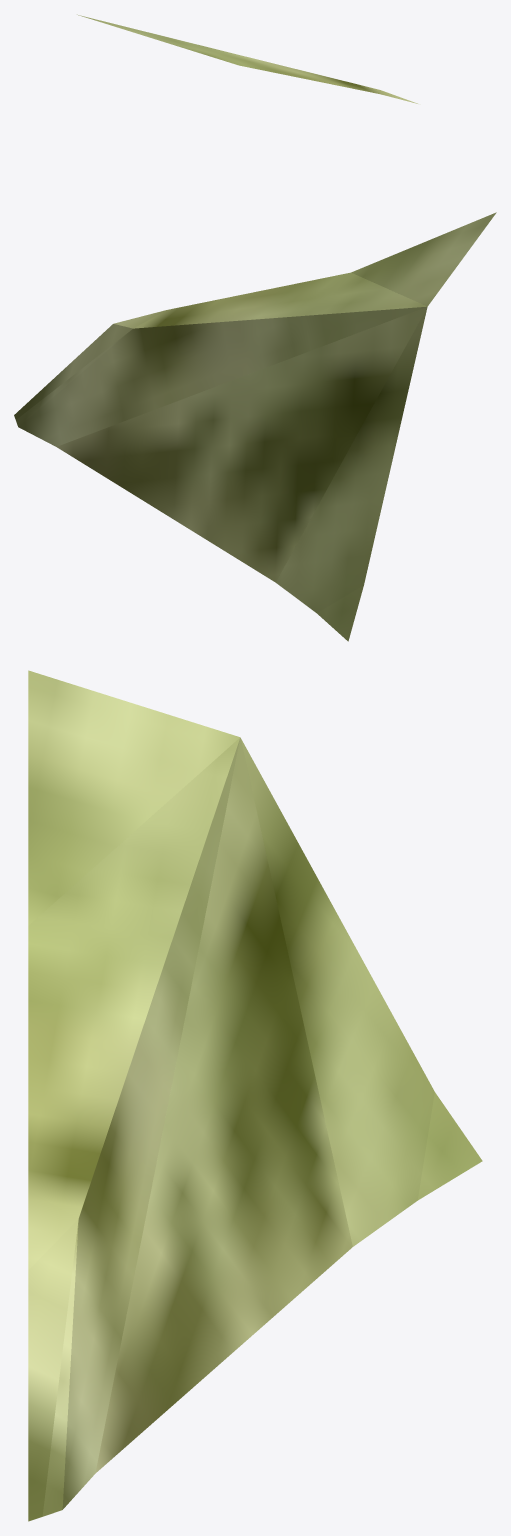
3 views of the same model, one above another, from view 1: azimuth 30°, elevation 25°; view 2: azimuth 150°, elevation 25°; view 3: azimuth 270°, elevation 25° (orthographic). The views are drawn at different scales.
Bounding box in the file's own units: 0.2592 × 0.1646 × 0.1381.
1 material, 1 textured.
